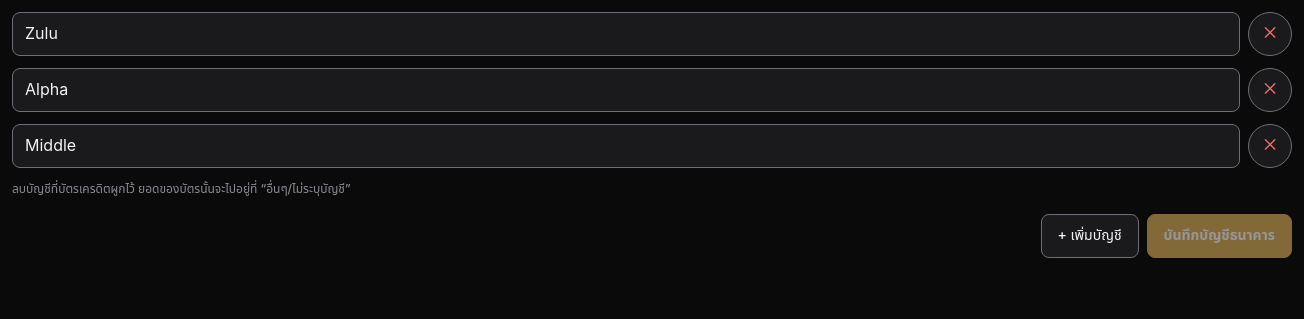
Test: bank manager restores an emptied name on blur and blocks duplicate names
Clear the field named "ชื่อบัญชี 3" at (626,146), box [12, 124, 1240, 168]
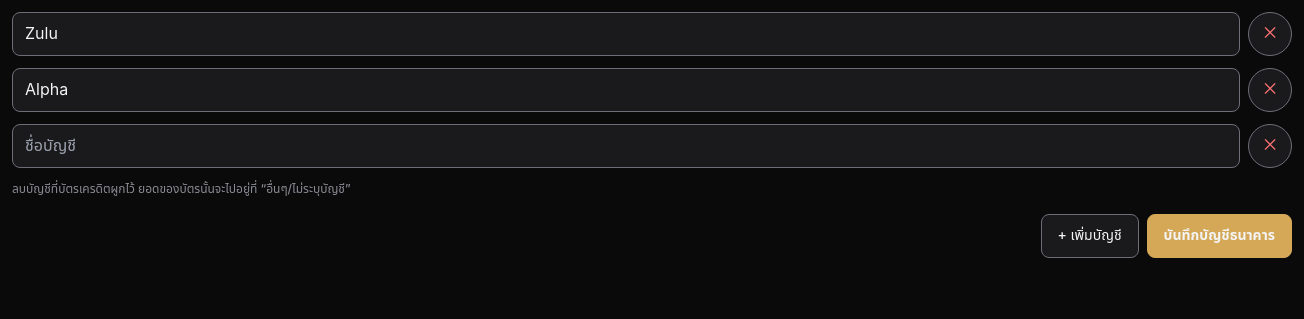
Leave the field named "ชื่อบัญชี 3", box [12, 124, 1240, 168]
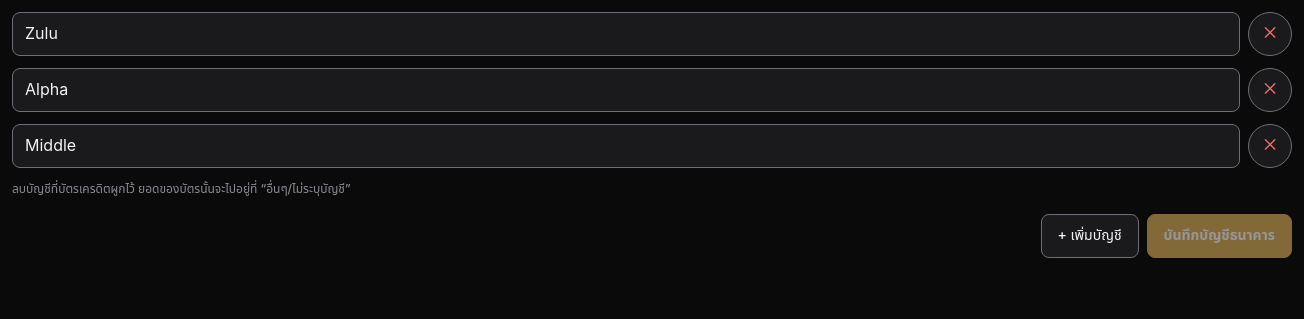
Expected: the field named "ชื่อบัญชี 3" holds "Middle", [12, 124, 1240, 168]
Replace the text in the field named "ชื่อบัญชี 2" with "Zulu" at (626,90), box [12, 68, 1240, 112]
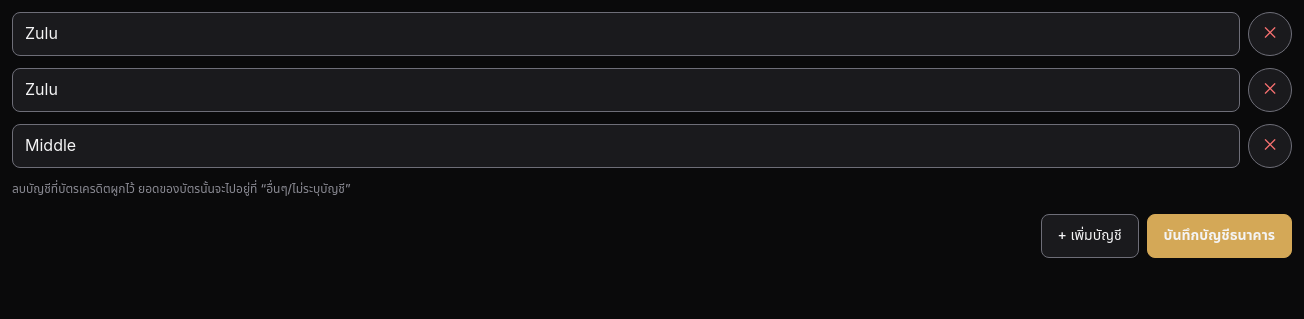
Click the button "บันทึกบัญชีธนาคาร" at (1219,236), box [1147, 214, 1292, 258]
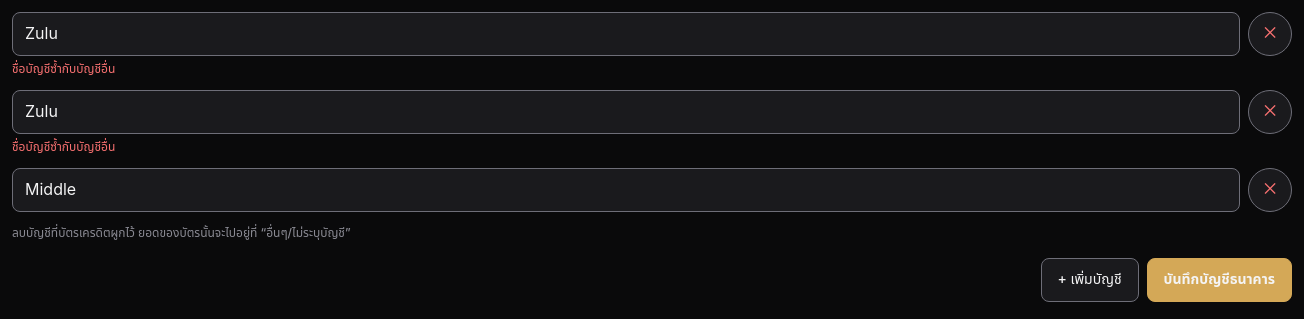
Expected: the text "ชื่อบัญชีซ้ำกับบัญชีอื่น" is shown 2 times, [12, 60, 115, 78]; [12, 138, 115, 156]
